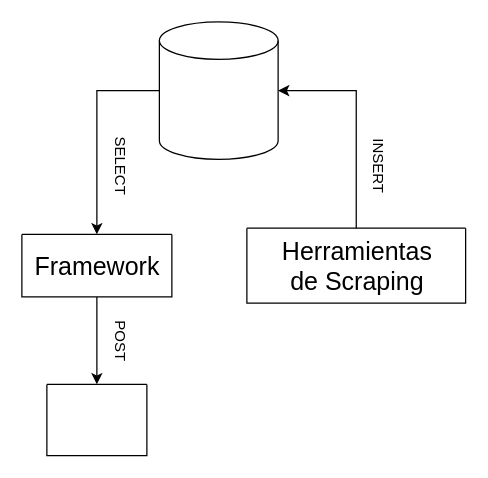
Image size: 488x478. Some labels were removed from this diagram. The centre of each missing label's shape, as x and y in pixels:
"App" goes at pixel 96 419.
"Base de datos" goes at pixel 218 90.
